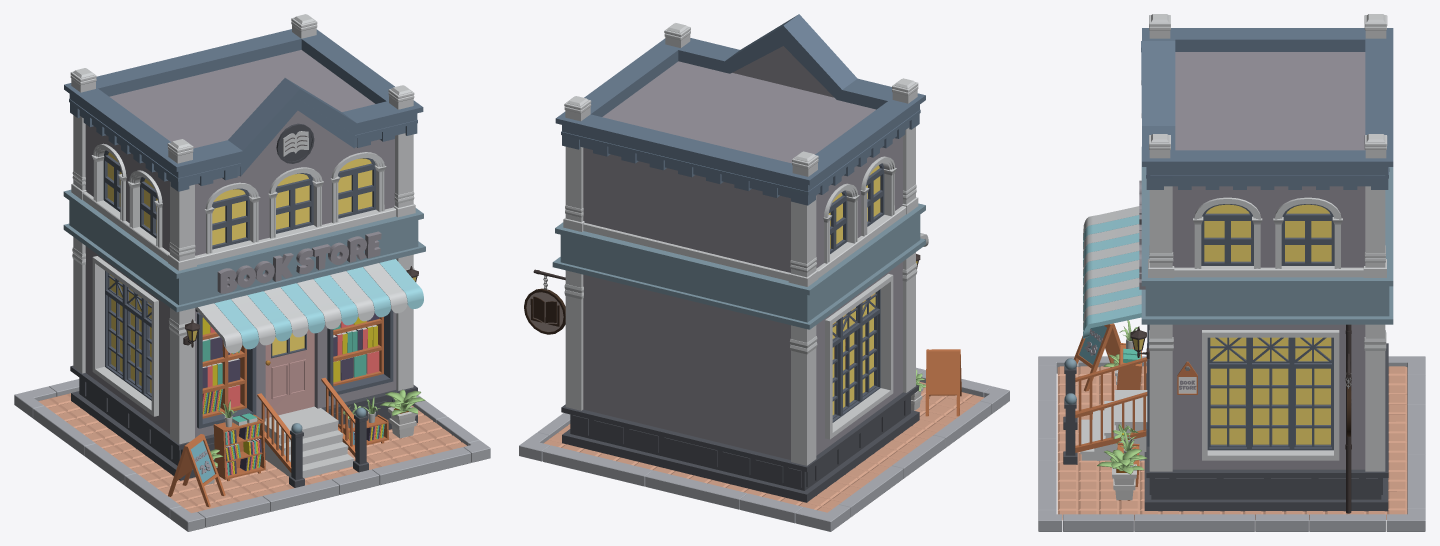
The model's file is book.fbx.
The picture shows the model from 3 angles, left to right: view 1: azimuth 30°, elevation 25°; view 2: azimuth 150°, elevation 25°; view 3: azimuth 270°, elevation 25°; orthographic projection. The views are drawn at different scales.
Parts seen in each view (by area): view 1: book; view 2: book; view 3: book.
Boxes of the visible parts, box(x1,y1,x2,y2) form: book: box(14, 14, 490, 531); book: box(519, 14, 1009, 531); book: box(1038, 14, 1425, 531).
Bounding box in the file's own units: 509 × 544 × 463.
